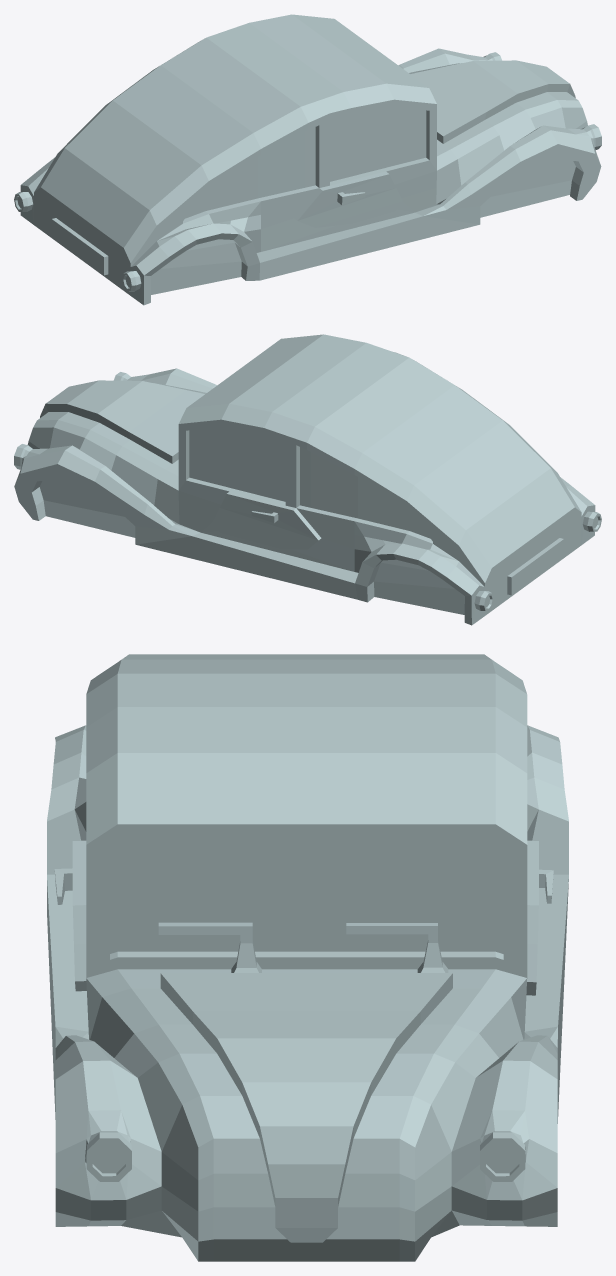
The model's file is BeetleBody_model.fbx.
3 renders of one model, top to bottom at view 1: azimuth 30°, elevation 25°; view 2: azimuth 150°, elevation 25°; view 3: azimuth 270°, elevation 25°, orthographic. The views are drawn at different scales.
Visible parts, largest first — view 1: Plane.005; view 2: Plane.005; view 3: Plane.005.
Part boxes in pixels (left/top/right/bottom): Plane.005: left=14, top=14, right=601, bottom=305; Plane.005: left=14, top=334, right=601, bottom=625; Plane.005: left=47, top=654, right=568, bottom=1261.
Bounding box in the file's own units: 875 × 255 × 399.
